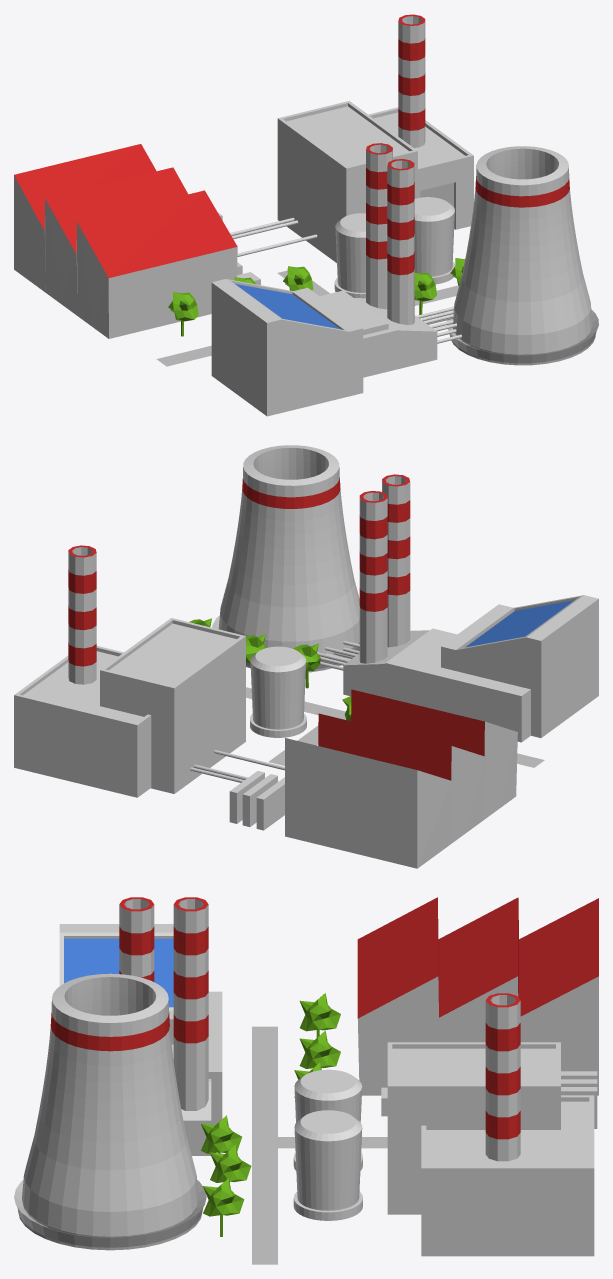
The model's file is bulding5.fbx.
3 renders of one model, top to bottom at view 1: azimuth 30°, elevation 25°; view 2: azimuth 150°, elevation 25°; view 3: azimuth 270°, elevation 25°, orthographic. The views are drawn at different scales.
Visible parts, largest first — view 1: industrial_factory; view 2: industrial_factory; view 3: industrial_factory.
Part boxes in pixels (<box>): industrial_factory: <box>14,14,598,416</box>; industrial_factory: <box>14,445,598,868</box>; industrial_factory: <box>14,897,598,1264</box>.
Bounding box in the file's own units: 345 × 155 × 344.
